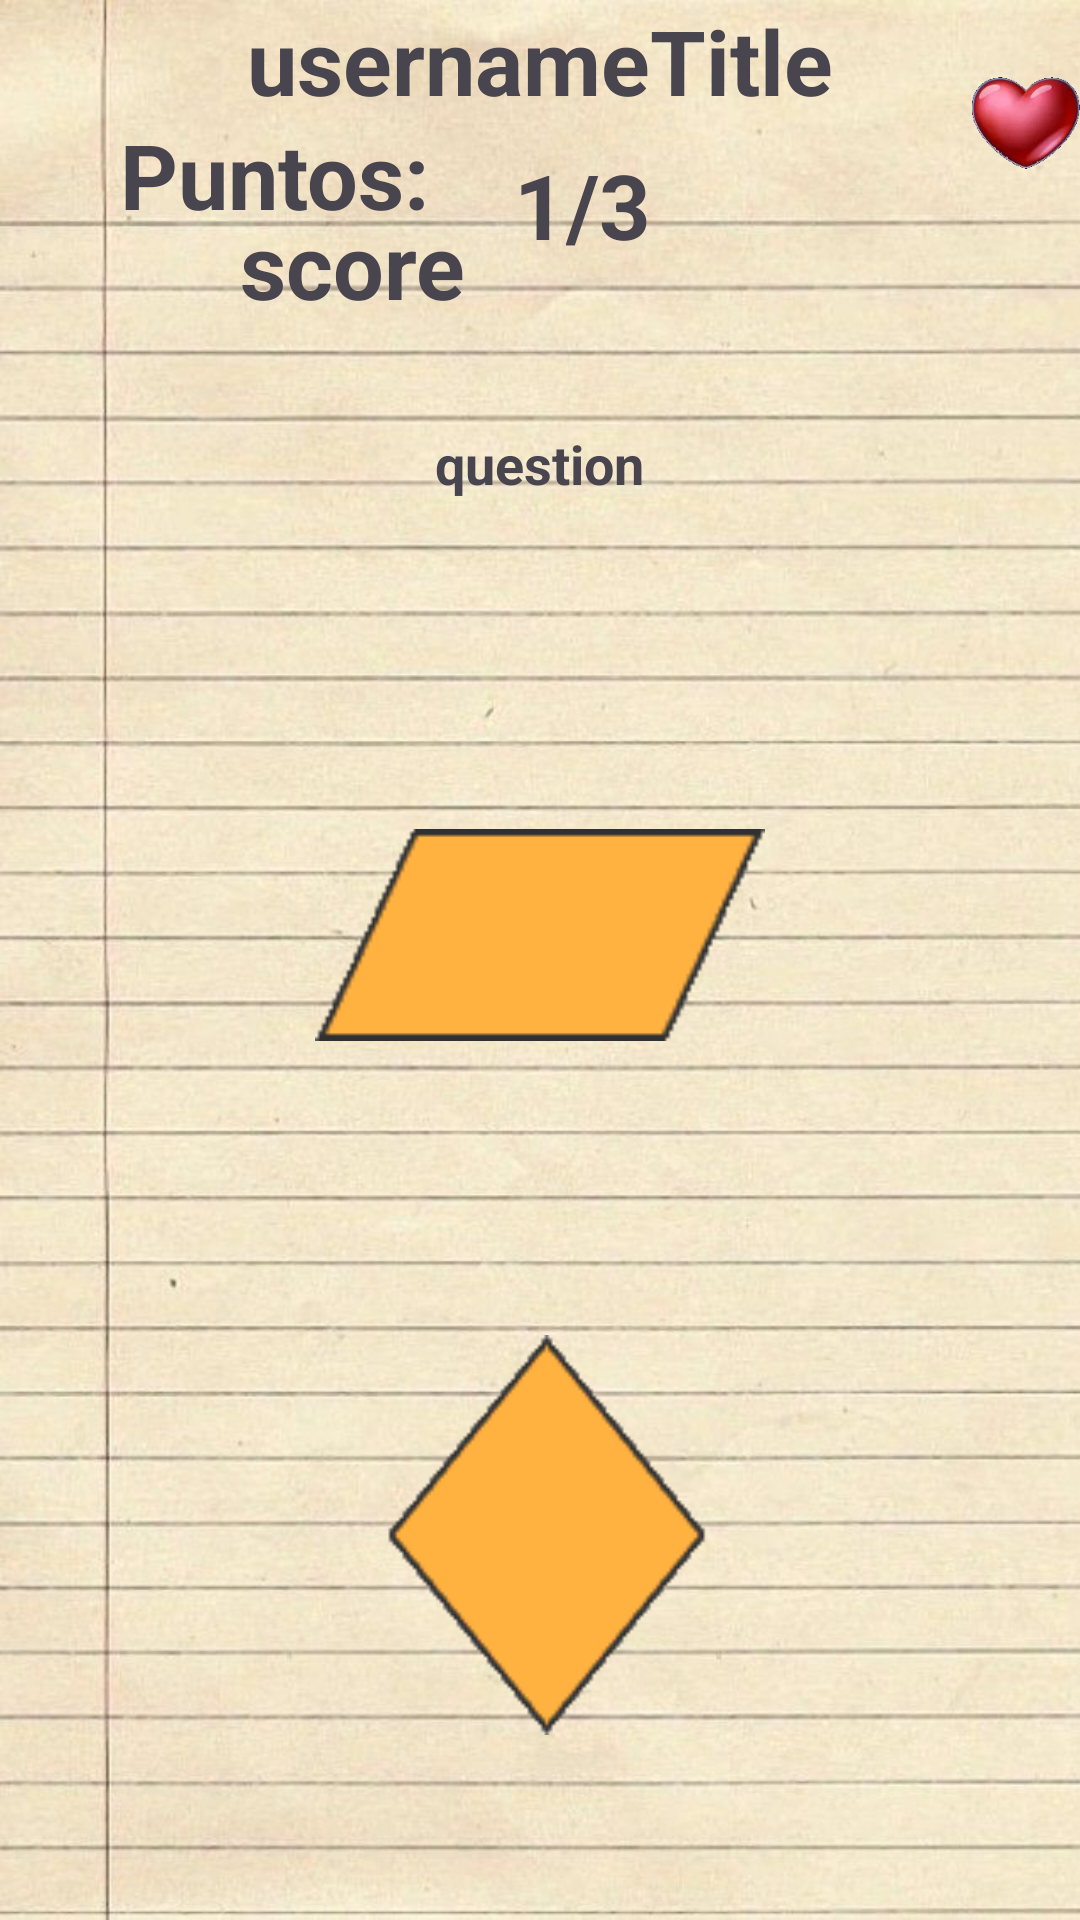

Where to tap for icons on this 1080 x 1920 app screen, as (x=x, y=y):
life: (x=1026, y=123)
